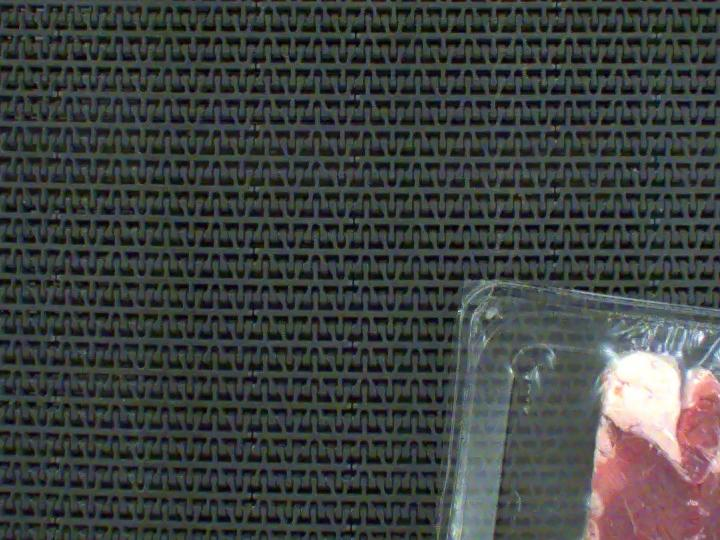unsealed: (524, 355, 720, 540)
